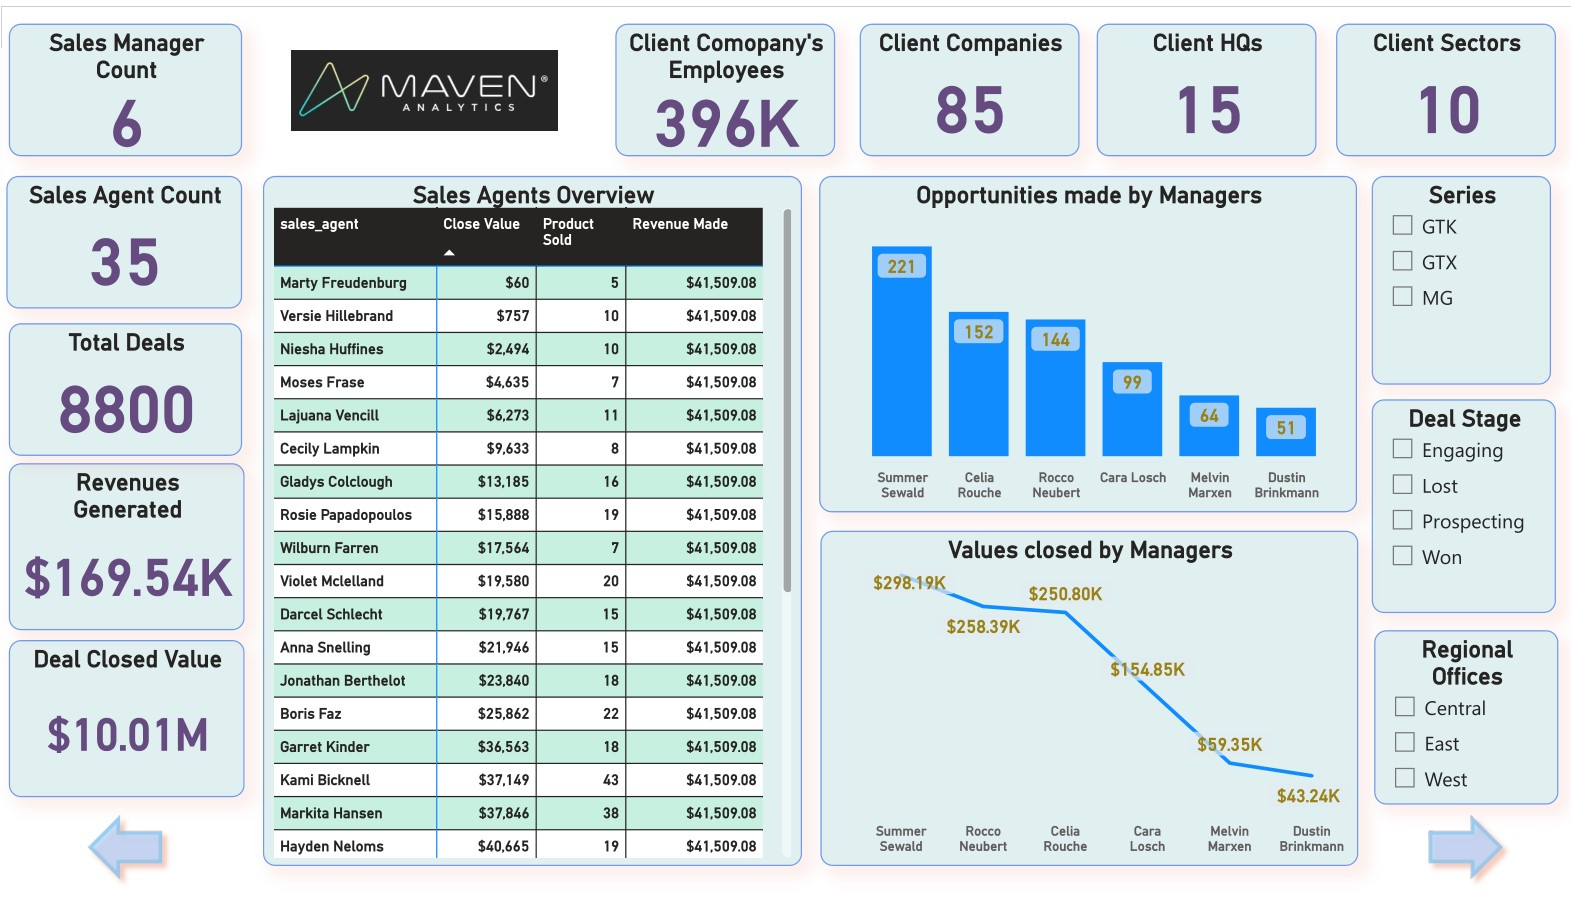

The dashboard page shown, as its layout file describes it:
{"tool":"powerbi","page":{"name":"Sales Team Performance","canvas":[1280,720],"ordinal":2},"visuals":[{"type":"card","title":"Sales Manager Count","fields":{"Values":["sales_teams.manager"]},"box":[6,14,190,108],"z":0},{"type":"card","title":"Sales Agent Count","fields":{"Values":["sales_teams.sales_agent"]},"box":[4,138,192,108],"z":1000},{"type":"card","title":"Client HQs","fields":{"Values":["accounts.office_location"]},"box":[891.8,13.5,179.5,108.1],"z":2000},{"type":"card","title":"Revenues Generated","fields":{"Values":["accounts.revenue"]},"box":[6,372,192,136],"z":3000},{"type":"card","title":"Client Companies","fields":{"Values":["accounts.account"]},"box":[698.7,13.5,179.5,108.1],"z":4000},{"type":"card","title":"Client Sectors","fields":{"Values":["accounts.sector"]},"box":[1086.7,13.5,179.5,108.1],"z":5000},{"type":"card","title":"Client Comopany''s Employees","fields":{"Values":["accounts.employees"]},"box":[499.9,13.5,179.5,108.1],"z":6000},{"type":"card","title":"Total Deals","fields":{"Values":["sales_pipeline.opportunity_id"]},"box":[6,258,190,108],"z":7000},{"type":"slicer","title":"Series","fields":{"Values":["products.series"]},"box":[1116,138,146,170],"z":8000},{"type":"slicer","title":"Deal Stage","fields":{"Values":["sales_pipeline.deal_stage"]},"box":[1116,320,150,174],"z":9000},{"type":"columnChart","title":"Opportunities made by Managers","fields":{"Category":["sales_teams.manager"],"Y":["sales_pipeline.opportunity_id"]},"box":[666,138,438,274],"z":10000},{"type":"lineChart","title":"Values closed by Managers","fields":{"Category":["sales_teams.manager"],"Y":["sales_pipeline.close_value"]},"box":[666.7,426.7,438.3,273.3],"z":11000},{"type":"pivotTable","title":"Sales Agents Overview","fields":{"Rows":["sales_teams.sales_agent"],"Values":["sales_pipeline.close_value","sales_pipeline.opportunity_id","accounts.revenue"]},"box":[213.3,138.3,438.3,561.7],"z":12000},{"type":"slicer","title":"Regional Offices","fields":{"Values":["sales_teams.regional_office"]},"box":[1118,508,150,142],"z":13000},{"type":"card","title":"Deal Closed Value","fields":{"Values":["sales_pipeline.close_value"]},"box":[6,516,192,128],"z":14000},{"type":"actionButton","box":[1154,650,78,70],"z":15000},{"type":"actionButton","box":[62,650,78,70],"z":16000},{"type":"image","box":[195,30.9,299.2,75.3],"z":17000}]}

Visuals, with their boxes on the page's 1280x720 design canvas (x1, y1, x2, y2). These are canvas units, not pixel positions in the 1571x913 screenshot, which may show the page scaled, cropped or inside an application window:
"Sales Manager Count" card: left=6, top=14, right=196, bottom=122
"Sales Agent Count" card: left=4, top=138, right=196, bottom=246
"Client HQs" card: left=892, top=14, right=1071, bottom=122
"Revenues Generated" card: left=6, top=372, right=198, bottom=508
"Client Companies" card: left=699, top=14, right=878, bottom=122
"Client Sectors" card: left=1087, top=14, right=1266, bottom=122
"Client Comopany''s Employees" card: left=500, top=14, right=679, bottom=122
"Total Deals" card: left=6, top=258, right=196, bottom=366
"Series" slicer: left=1116, top=138, right=1262, bottom=308
"Deal Stage" slicer: left=1116, top=320, right=1266, bottom=494
"Opportunities made by Managers" columnChart: left=666, top=138, right=1104, bottom=412
"Values closed by Managers" lineChart: left=667, top=427, right=1105, bottom=700
"Sales Agents Overview" pivotTable: left=213, top=138, right=652, bottom=700
"Regional Offices" slicer: left=1118, top=508, right=1268, bottom=650
"Deal Closed Value" card: left=6, top=516, right=198, bottom=644
actionButton: left=1154, top=650, right=1232, bottom=720
actionButton: left=62, top=650, right=140, bottom=720
image: left=195, top=31, right=494, bottom=106
